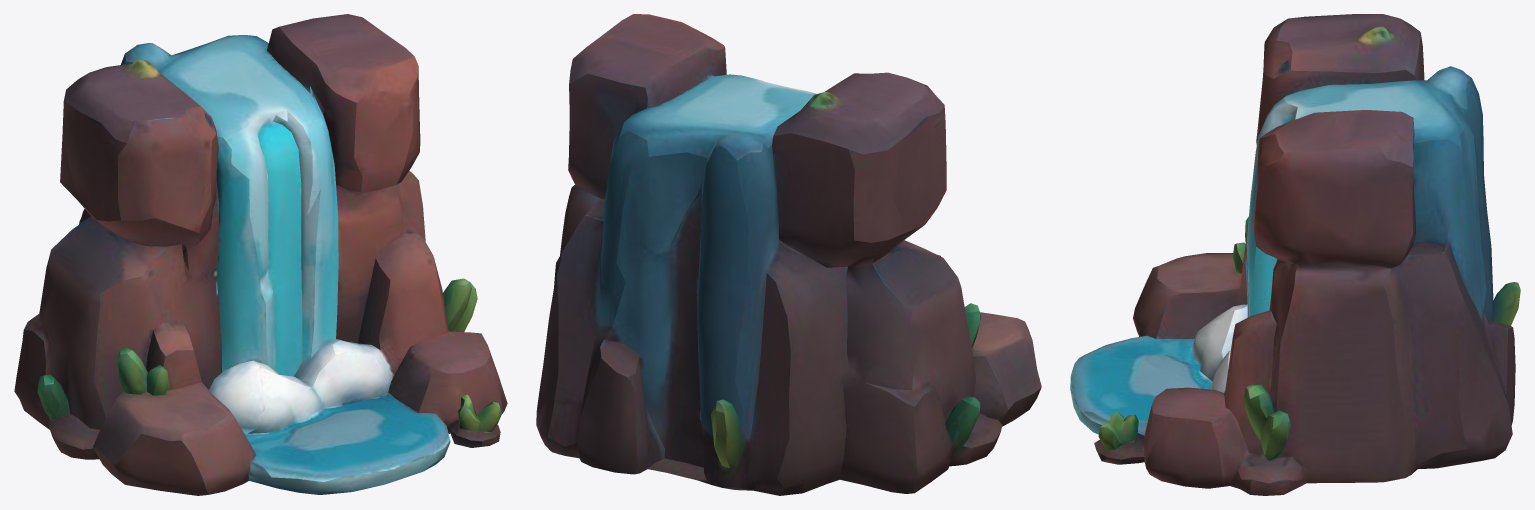
Rendered from a-frozen-waterfall-of-blue-ice-o-9623e2.glb.
3 renders of one model, left to right at view 1: azimuth 30°, elevation 25°; view 2: azimuth 150°, elevation 25°; view 3: azimuth 270°, elevation 25°, orthographic. The views are drawn at different scales.
Visible parts, largest first — view 1: geometry_0; view 2: geometry_0; view 3: geometry_0.
Part boxes in pixels (<box>): geometry_0: <box>14,14,507,495</box>; geometry_0: <box>536,14,1041,495</box>; geometry_0: <box>1070,14,1520,495</box>.
Bounding box in the file's own units: 1 × 0.8018 × 0.9641.
Materials: 1 (1 with a texture image).
